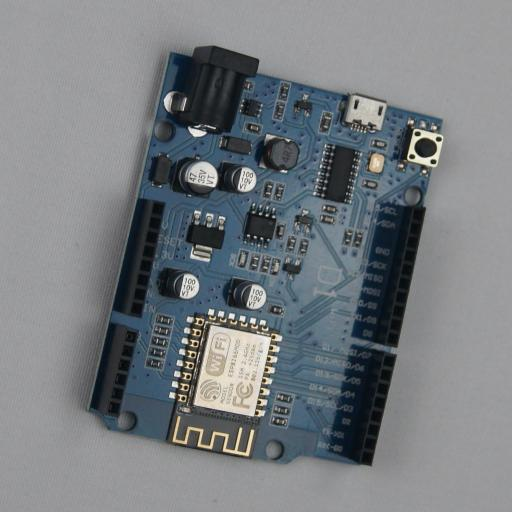Arduino Uno WiFi Shield: (77, 46, 443, 466)
